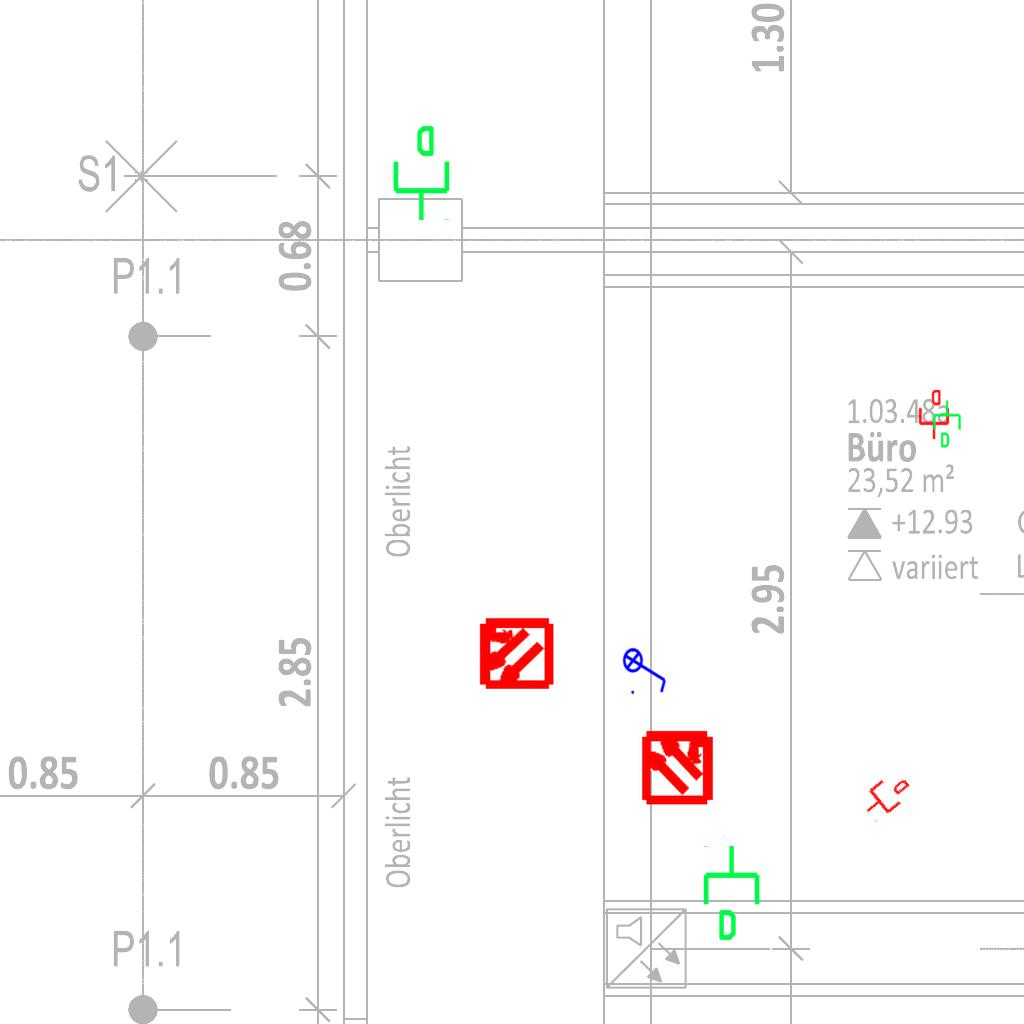Ausschalter_beleuchtet: (622, 641, 670, 697)
Datenanschluss_einfach: (699, 843, 768, 943), (385, 123, 454, 223), (855, 767, 917, 825), (917, 390, 951, 440), (931, 399, 965, 449)
OT_Multisensormelder_(Kombination_RMO_WMD): (458, 597, 571, 710), (621, 709, 734, 822)
